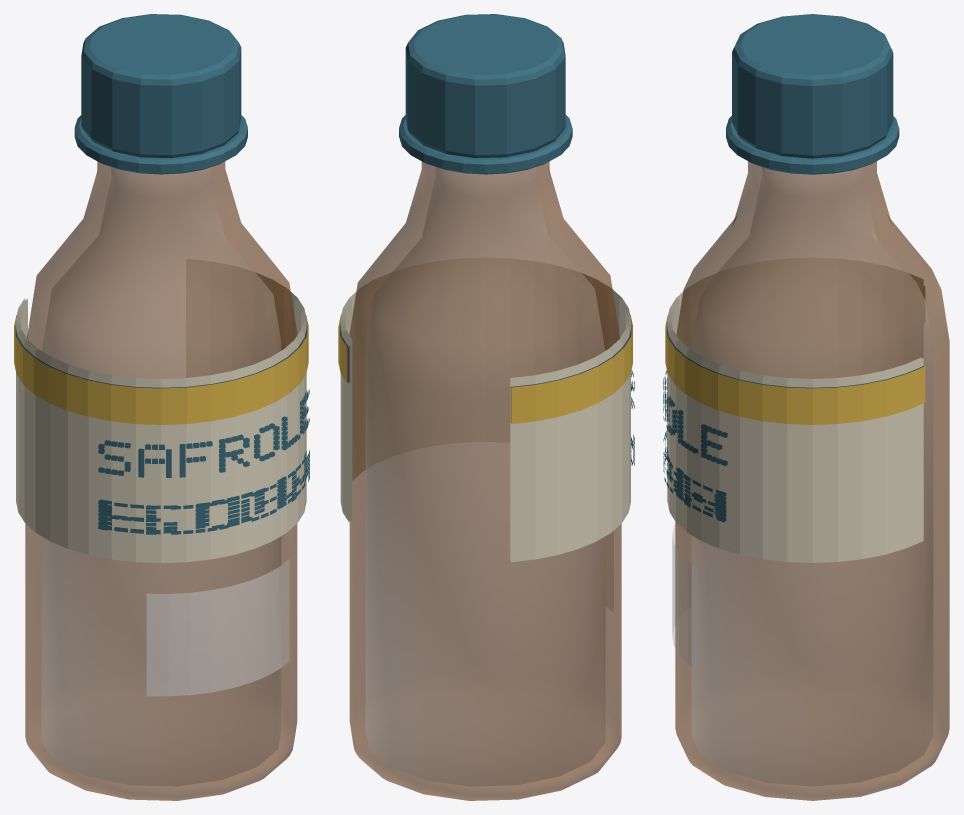
File: safrole.glb
The picture shows the model from 3 angles, left to right: view 1: azimuth 30°, elevation 25°; view 2: azimuth 150°, elevation 25°; view 3: azimuth 270°, elevation 25°; orthographic projection.
Visible parts, largest first — view 1: SafroleBottle, SafroleLiquidVolume, SafroleLabel_High, SafroleCap, SafroleLiquid, SafroleLabel_Low, SafroleLabel_Standard, SafroleNeckRing; view 2: SafroleBottle, SafroleLiquidVolume, SafroleLabel_High, SafroleCap, SafroleLabel_Low, SafroleNeckRing, SafroleLabel_Standard; view 3: SafroleBottle, SafroleLiquidVolume, SafroleLabel_High, SafroleCap, SafroleNeckRing, SafroleLiquid, SafroleLabel_Low, SafroleLabel_Standard.
Part boxes in pixels (x1,y1,x2,y2): SafroleBottle: [25, 161, 297, 800]; SafroleLiquidVolume: [41, 167, 280, 786]; SafroleLabel_High: [14, 272, 309, 563]; SafroleCap: [81, 14, 241, 158]; SafroleLiquid: [147, 559, 289, 695]; SafroleLabel_Low: [17, 275, 306, 533]; SafroleLabel_Standard: [15, 274, 308, 534]; SafroleNeckRing: [74, 115, 247, 174]; SafroleBottle: [349, 161, 621, 800]; SafroleLiquidVolume: [366, 167, 605, 786]; SafroleLabel_High: [338, 272, 634, 562]; SafroleCap: [405, 14, 565, 158]; SafroleLabel_Low: [343, 275, 631, 560]; SafroleNeckRing: [399, 115, 572, 174]; SafroleLabel_Standard: [340, 274, 632, 561]; SafroleBottle: [675, 161, 949, 800]; SafroleLiquidVolume: [692, 167, 932, 786]; SafroleLabel_High: [663, 274, 925, 562]; SafroleCap: [732, 14, 893, 158]; SafroleNeckRing: [726, 116, 899, 174]; SafroleLiquid: [672, 523, 698, 670]; SafroleLabel_Low: [666, 277, 921, 520]; SafroleLabel_Standard: [665, 275, 923, 517].
Bounding box in the file's own units: 0.073 × 0.193 × 0.071.
